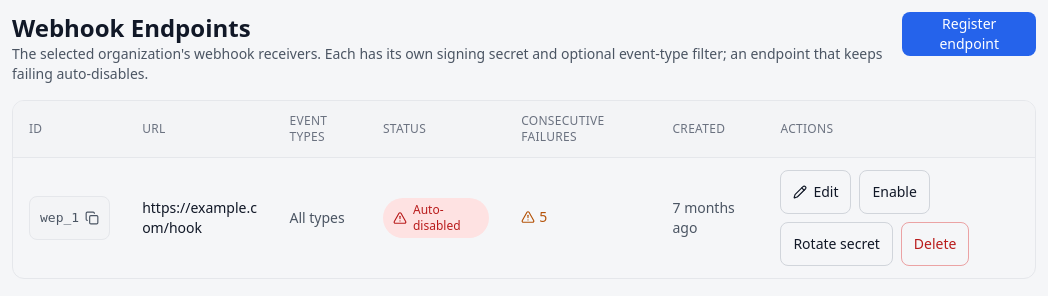
Test: WebhookEndpointsPage › enabling a DISABLED_AUTO endpoint resets it to Enabled and clears its failure count in the list
Expected: the text "Auto-disabled" is shown, top-left (383, 198), bottom-right (489, 238)
Click the button "Enable" at (895, 192), box top-left (860, 170), bottom-right (930, 214)
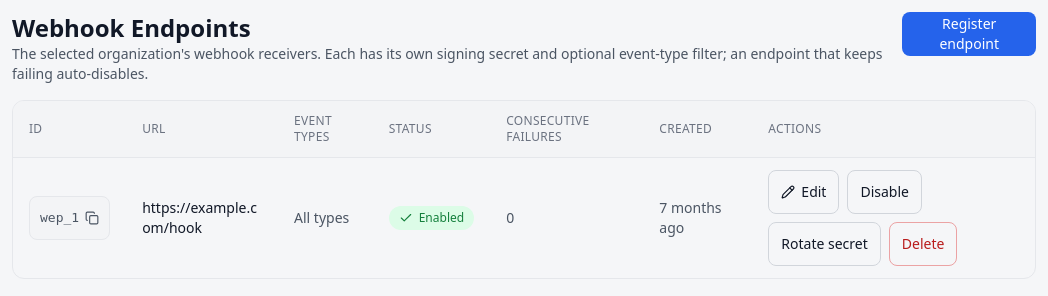
Expected: the text "Enabled" is shown, top-left (389, 206), bottom-right (474, 230)
